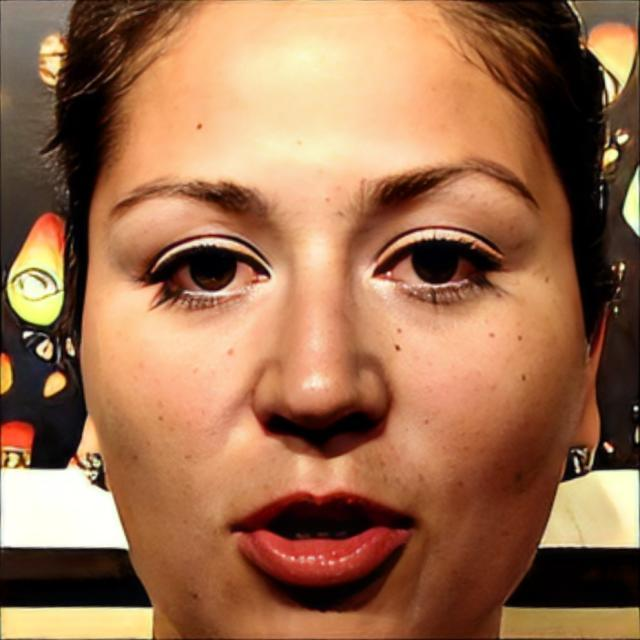surprise: (77, 1, 590, 640)
